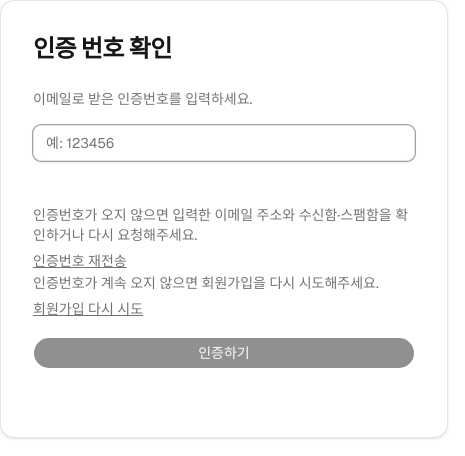
Test: VerifyOtpForm › 유효한 OTP를 입력하면 인증 버튼이 활성화된다
The width and height of the screenshot is (465, 456).
Type "111111" into the field with placeholder "예: 123456" at (224, 143), box [33, 125, 415, 161]
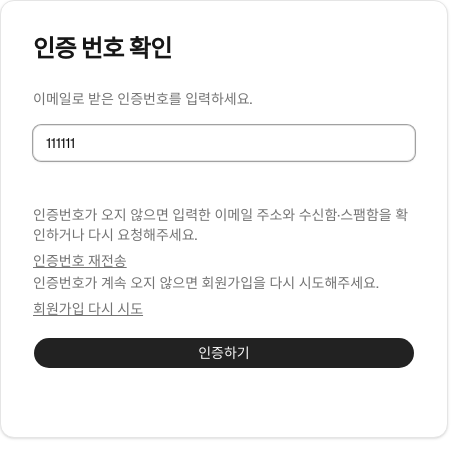
Result: the button "인증하기" is enabled at [33, 337, 415, 369]
